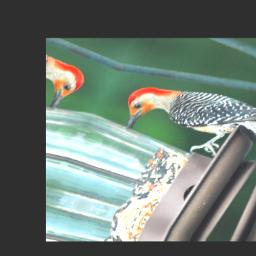Woodpecker: (110, 71, 256, 169)
